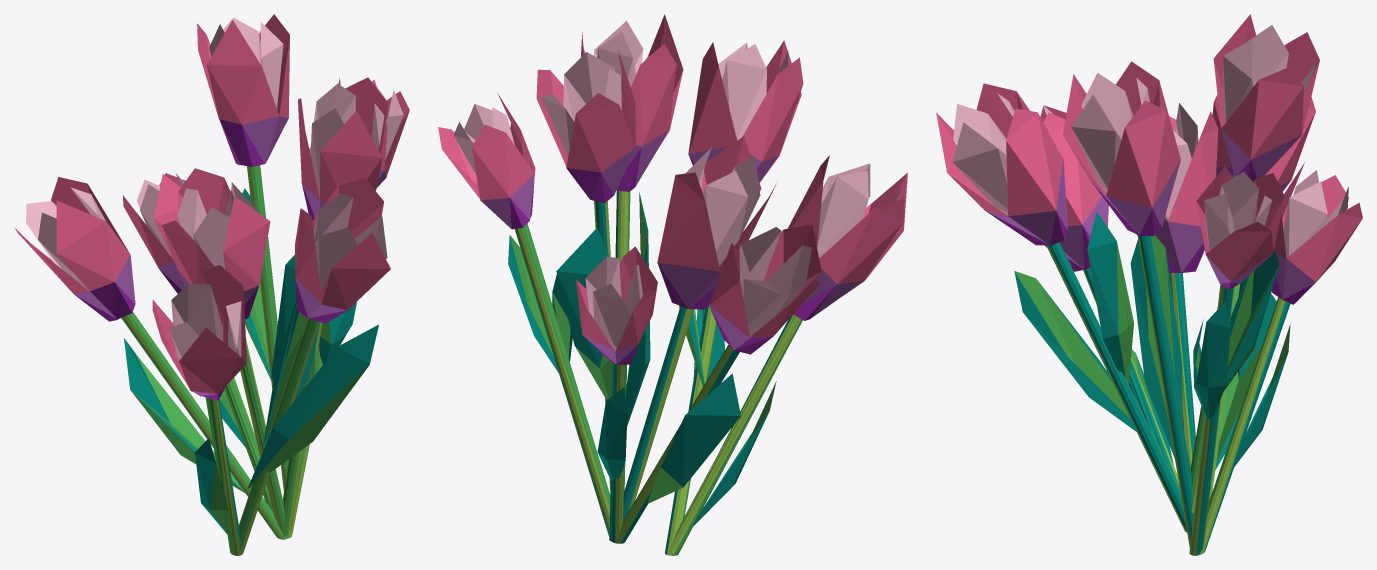
The model's file is tulip.glb.
The picture shows the model from 3 angles, left to right: view 1: azimuth 30°, elevation 25°; view 2: azimuth 150°, elevation 25°; view 3: azimuth 270°, elevation 25°; orthographic projection. The views are drawn at different scales.
Visible parts, largest first — view 1: group472026721, group941805466, group1513215620, group201291130, group64326919, group1089069114, group797648510, group478565310, group1869555222, group1563464038, group773970968, group1653023134 (+32 smaller); view 2: group472026721, group1199946381, group941805466, group851135502, group1662392388, group797648510, group1741665748, group773970968, group1524081558, group2026508287, group369730231, group1587333848 (+32 smaller); view 3: group941805466, group472026721, group1199946381, group369730231, group1513215620, group1548443602, group1160013864, group605848671, group1563464038, group851135502, group1336710718, group1219209497 (+23 smaller).
Part boxes in pixels (<box>): group472026721: <box>197,14,289,166</box>; group941805466: <box>298,77,387,220</box>; group1513215620: <box>247,324,378,488</box>; group201291130: <box>56,200,135,319</box>; group64326919: <box>309,232,390,323</box>; group1089069114: <box>223,196,270,318</box>; group797648510: <box>124,338,245,493</box>; group478565310: <box>121,312,287,539</box>; group1869555222: <box>179,327,246,400</box>; group1563464038: <box>238,318,320,555</box>; group773970968: <box>295,208,321,318</box>; group1653023134: <box>247,165,288,491</box>; group472026721: <box>536,50,635,203</box>; group1199946381: <box>438,93,535,229</box>; group941805466: <box>581,14,683,191</box>; group851135502: <box>657,172,719,308</box>; group1662392388: <box>793,198,903,320</box>; group797648510: <box>648,373,740,503</box>; group1741665748: <box>514,223,610,536</box>; group773970968: <box>742,57,803,182</box>; group1524081558: <box>556,228,612,399</box>; group2026508287: <box>668,314,802,555</box>; group369730231: <box>688,42,737,165</box>; group1587333848: <box>623,306,693,519</box>; group941805466: <box>1063,61,1180,235</box>; group472026721: <box>1213,14,1319,181</box>; group1199946381: <box>1196,166,1284,289</box>; group369730231: <box>1006,108,1067,245</box>; group1513215620: <box>1014,271,1161,449</box>; group1548443602: <box>1087,211,1133,384</box>; group1160013864: <box>1130,235,1182,458</box>; group605848671: <box>1137,235,1193,548</box>; group1563464038: <box>1046,242,1186,532</box>; group851135502: <box>1167,111,1218,272</box>; group1336710718: <box>1043,112,1108,269</box>; group1219209497: <box>1282,203,1362,304</box>.
Bounding box in the file's own units: 0.9708 × 1.25 × 0.9118.
